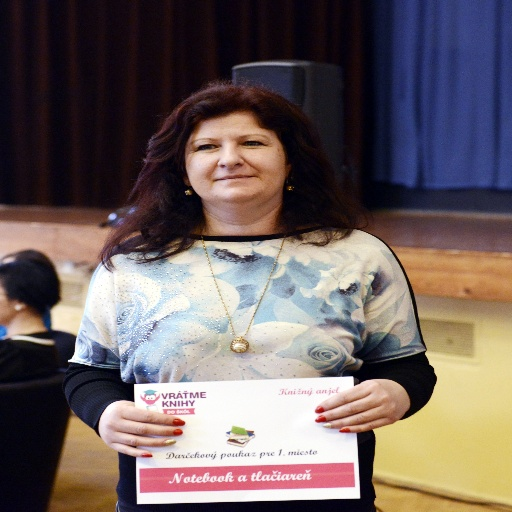hand: (313, 377, 410, 433), (96, 400, 185, 456)
